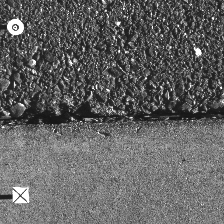circle: (6, 19, 24, 36)
crack: (1, 108, 223, 127)
square: (12, 187, 28, 202)
